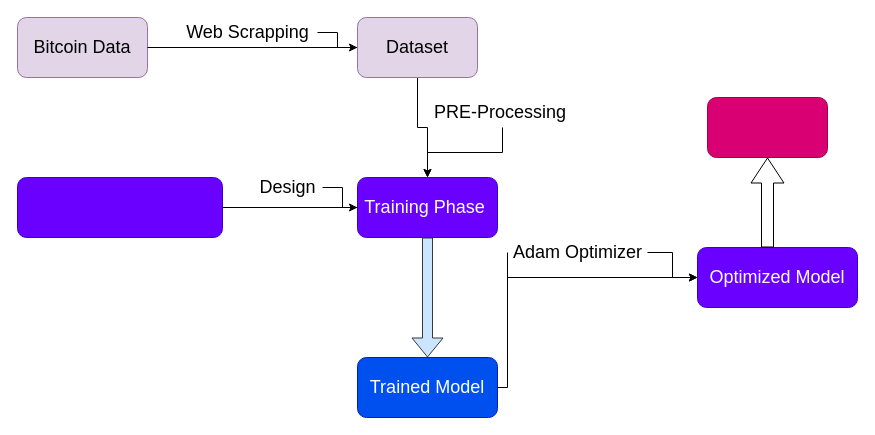
The diagram is 875 pixels wide and 435 high, and some of its shapes have lost their labels. Here are the shapes that lost their labels. From the top down, the centre of each, then its label:
At (x=767, y=127): "Prediction".
At (x=119, y=207): "Sequential Neural Network".
